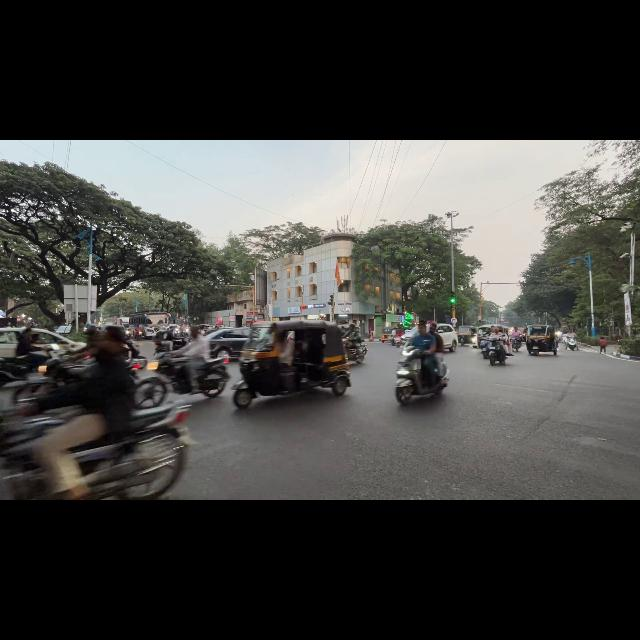bus: (129, 311, 169, 337), (116, 317, 129, 326)
car: (206, 328, 250, 357), (32, 328, 85, 350), (437, 324, 457, 352), (437, 324, 457, 351), (401, 327, 417, 343), (55, 325, 72, 335)
motorcycle: (70, 404, 192, 499), (13, 356, 94, 404), (395, 346, 448, 404), (137, 353, 191, 407), (343, 338, 367, 363), (488, 340, 506, 365), (479, 338, 489, 359), (512, 336, 522, 352), (566, 338, 577, 350), (393, 335, 401, 346)
